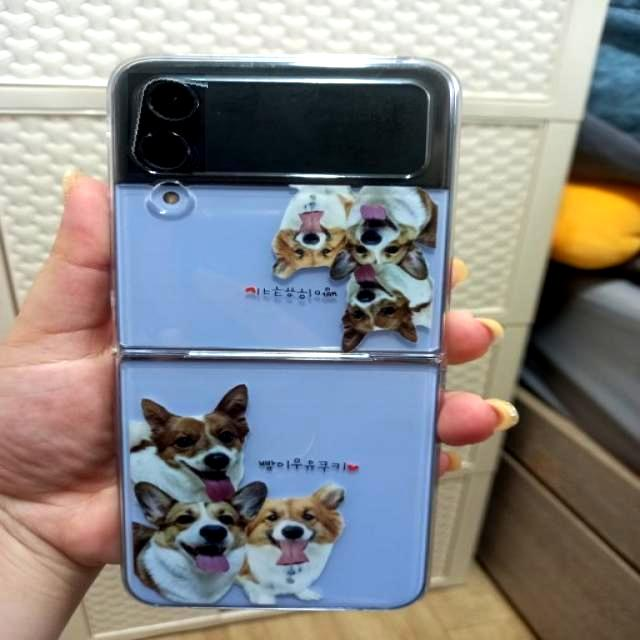lens_back: (136, 129, 195, 175), (148, 81, 199, 124)
phone: (104, 53, 465, 609)
